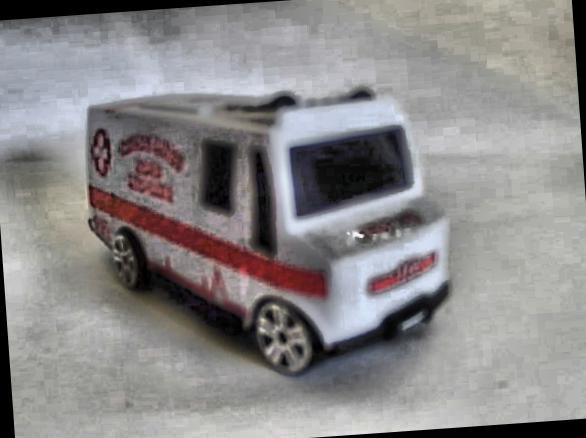ambulance: (78, 74, 456, 390)
